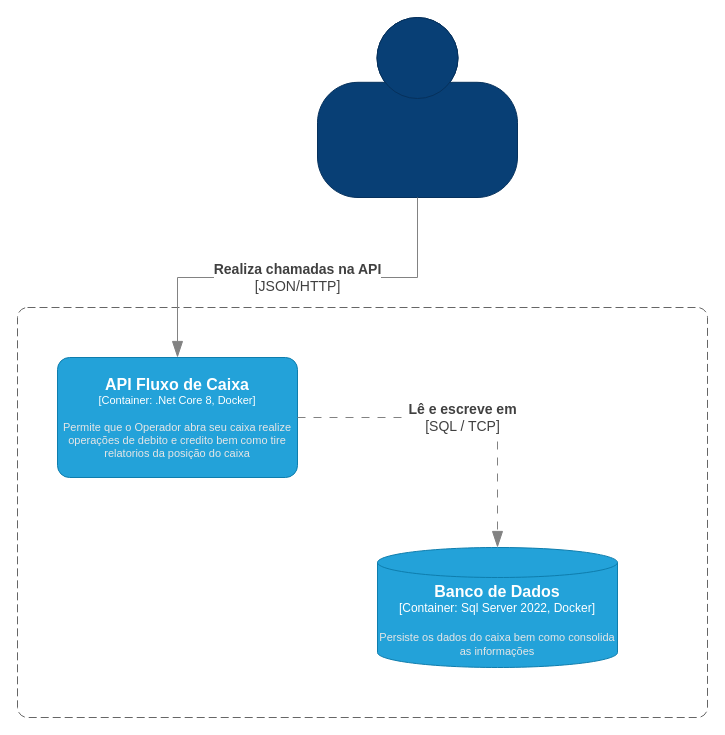
The diagram is 725 pixels wide and 735 high, and some of its shapes have lost their labels. The box of each missing label's shape, as (x1, y1, x2, y2) in pixels:
[Container] Fluxo de Caixa [API Fluxo de Caixa]: (16, 306, 708, 718)
Operador [Person] Operador do Caixa: (316, 16, 518, 198)
